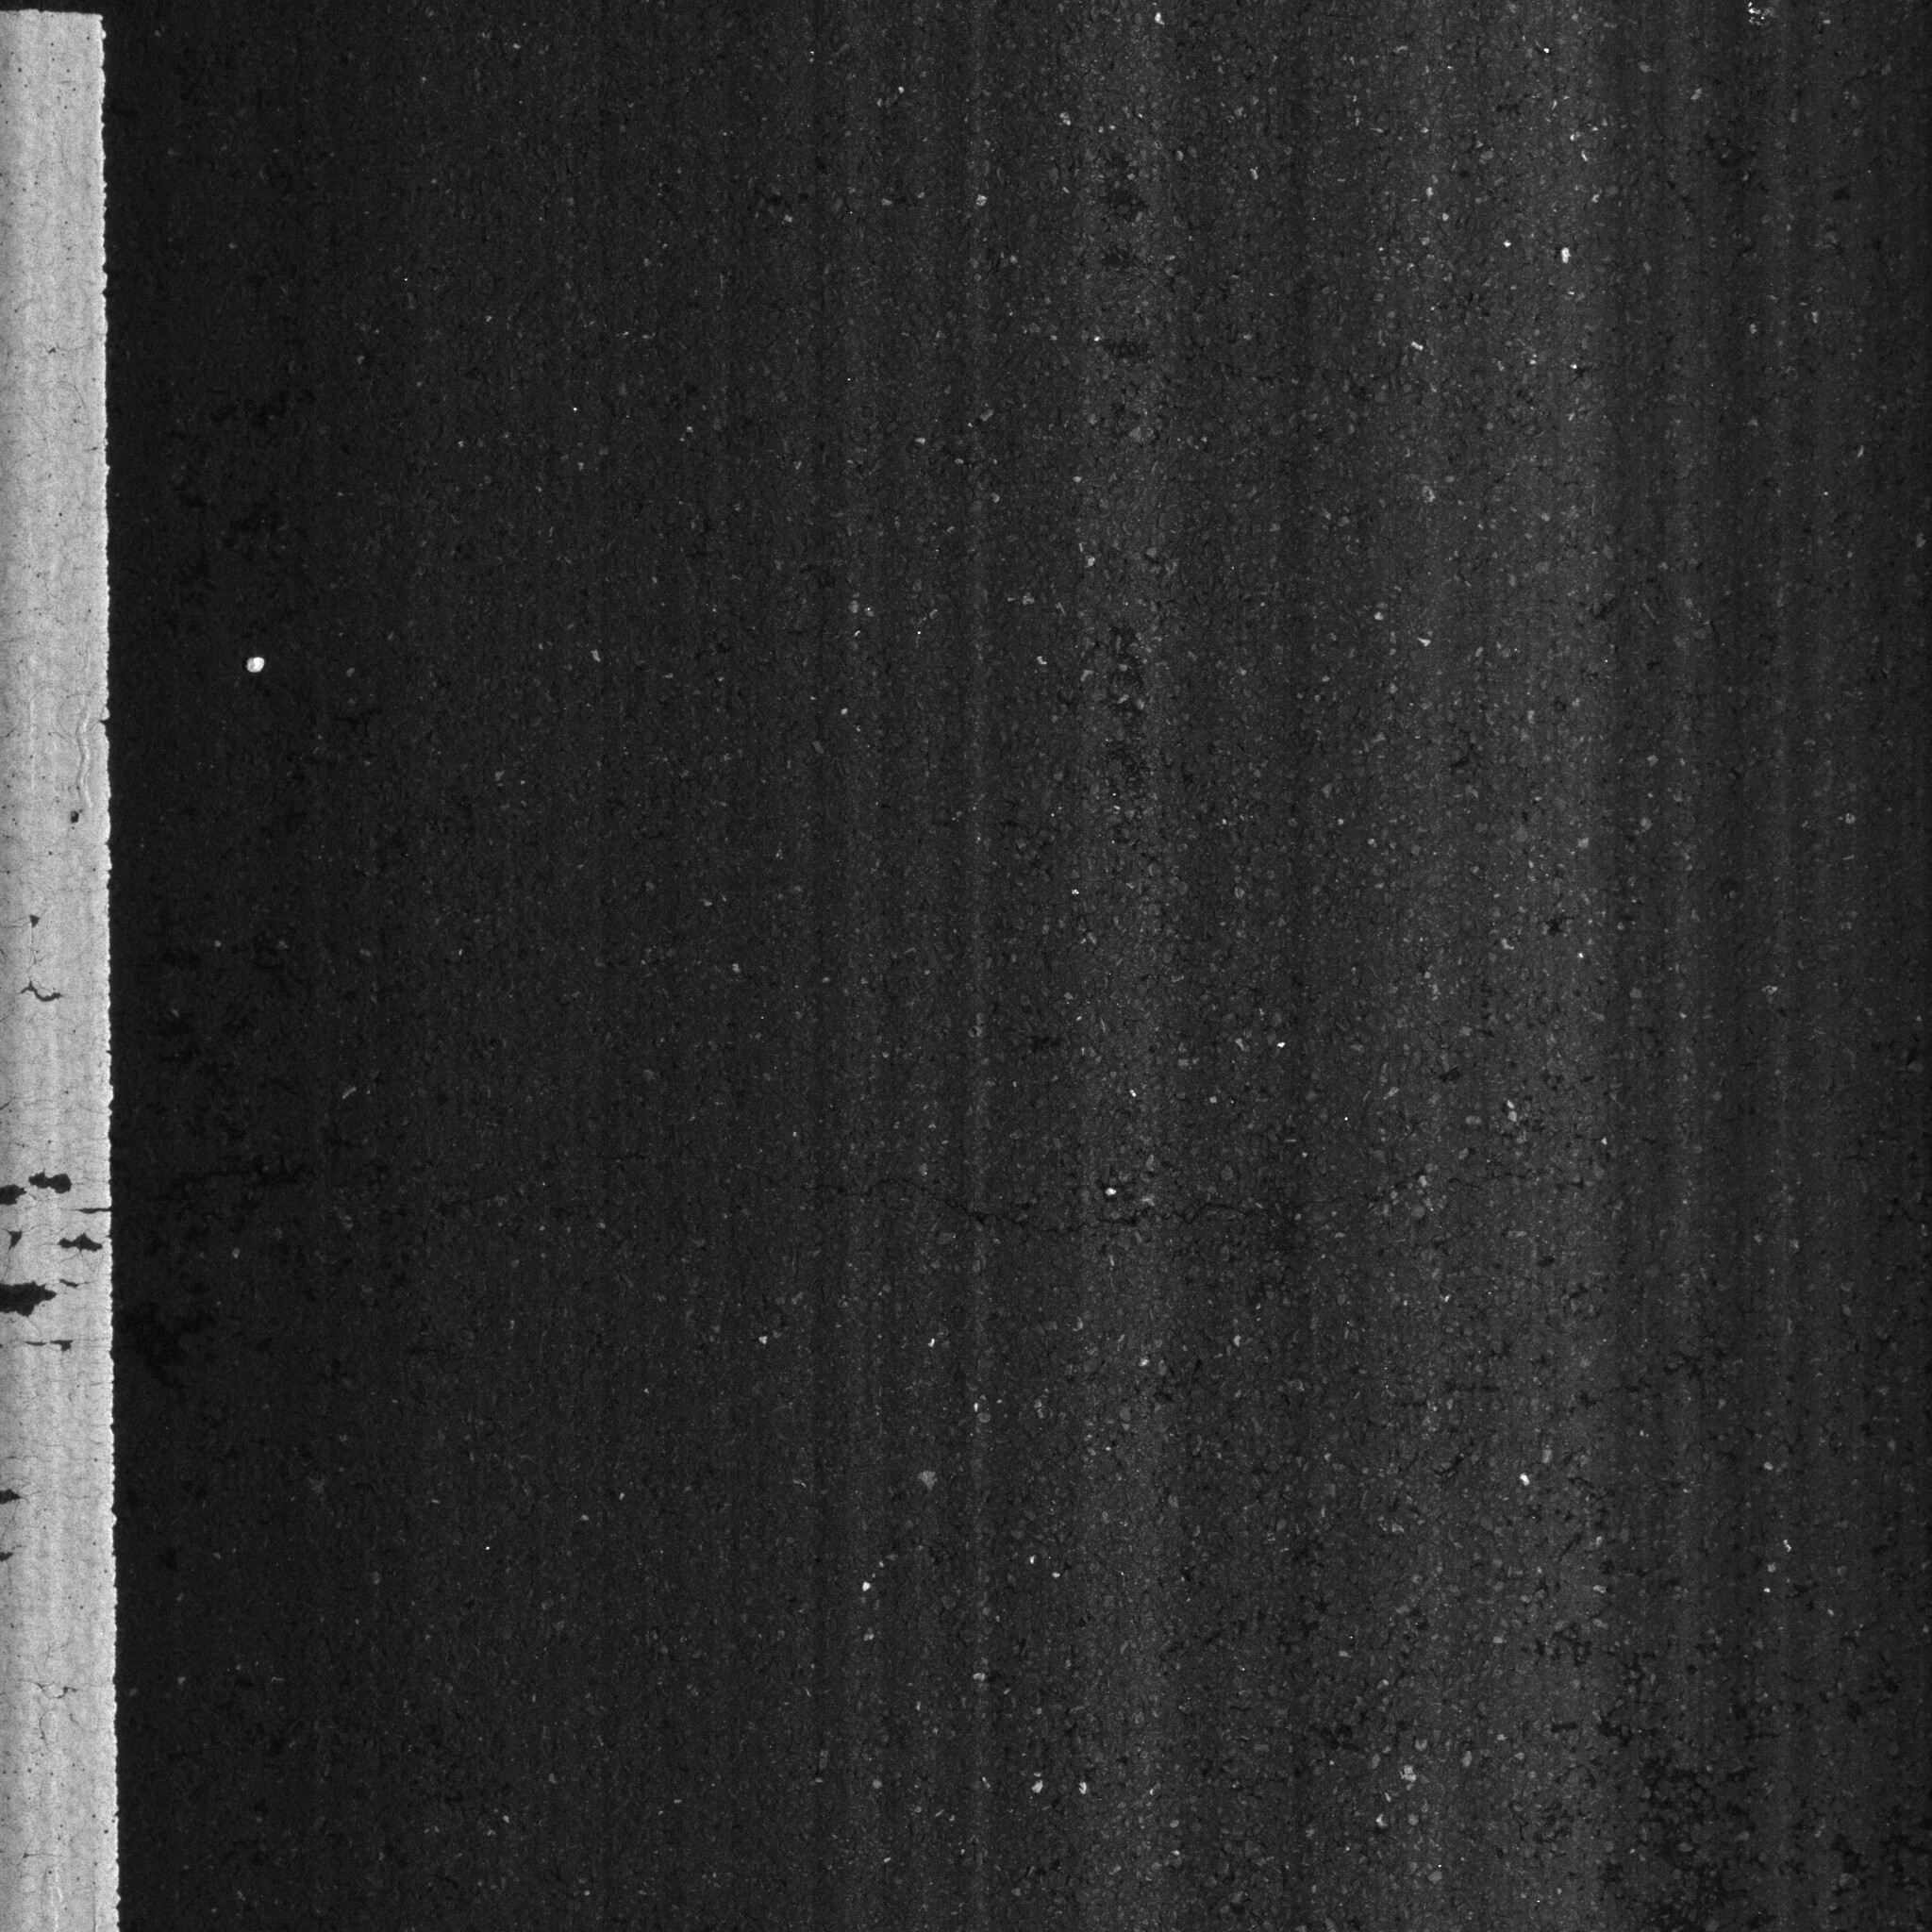transeverse: (807, 1168, 1258, 1261)
